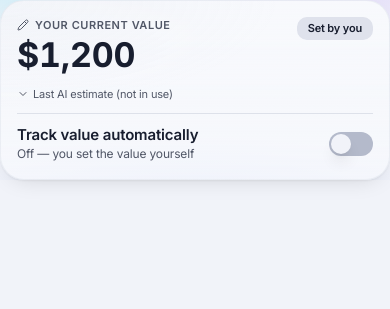
Test case: CurrentValueCard — automatic value tracking switch › manual: the user's own value leads, the estimate machinery is gone, the old estimate is labelled history
Check: the element with test id "current-value-manual-heading" reads "Your current value", box [35, 18, 171, 32]
Check: the button with test id "current-value-manual-amount" reads "$1,200", box [17, 34, 135, 76]
What coordinates should you click on to do the following:
click the button with test id "current-value-details-toggle"
I would click on:
 (95, 94)
Its box is [17, 86, 173, 102].
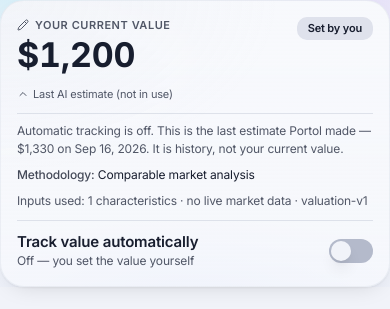
Check: the text with test id "current-value-historical-note" shows "$1,330", box [17, 140, 54, 156]
Check: the text with test id "current-value-historical-note" shows "history, not your current value", box [146, 140, 344, 156]
